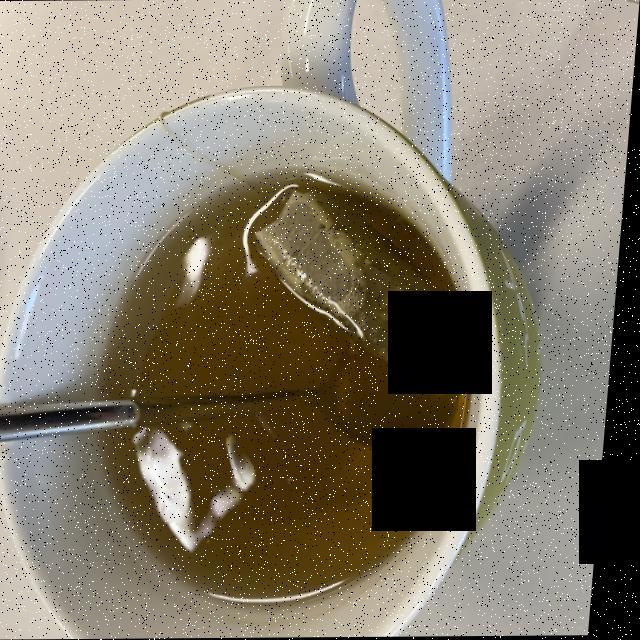tea: (118, 181, 468, 595)
